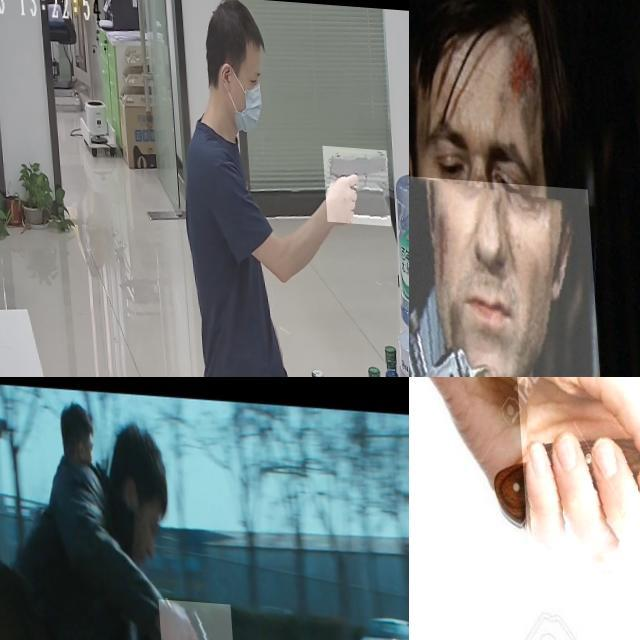-: (510, 377, 640, 602)
gun-knife-thesis - v11 Yolov5 augmented: (409, 167, 603, 377), (321, 139, 388, 219), (154, 594, 230, 640)
